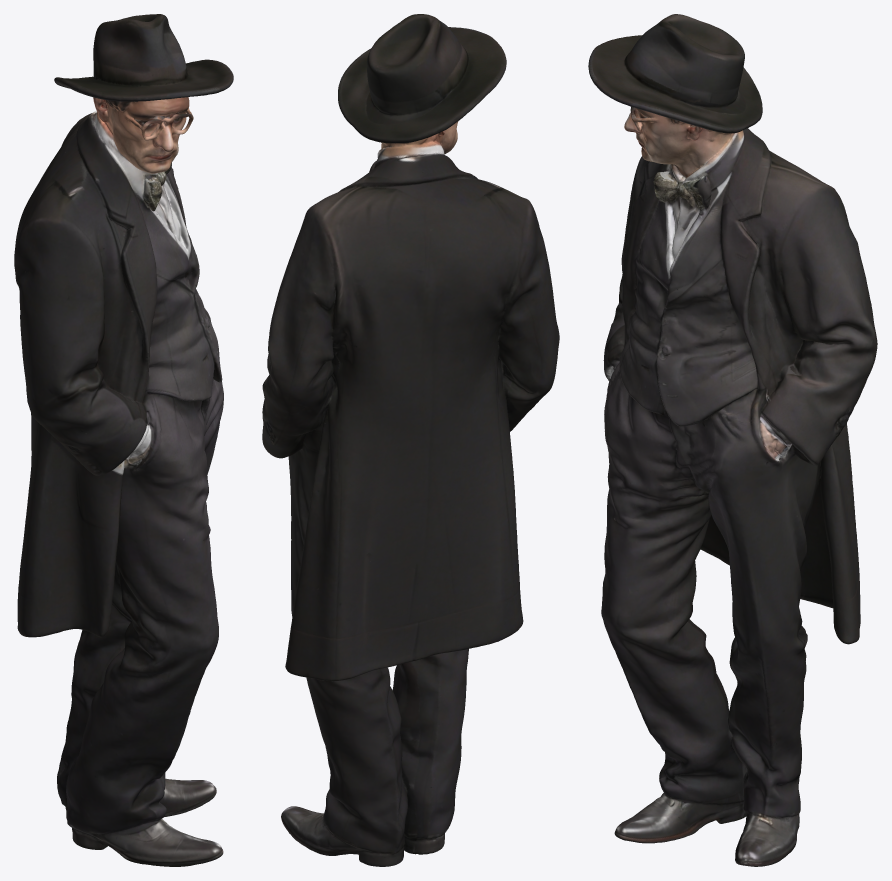
The model's file is castelao.glb.
3 renders of one model, left to right at view 1: azimuth 30°, elevation 25°; view 2: azimuth 150°, elevation 25°; view 3: azimuth 270°, elevation 25°, orthographic. The views are drawn at different scales.
Visible parts, largest first — view 1: Object_6, Object_4, Object_5, Object_7; view 2: Object_5, Object_7, Object_4, Object_6; view 3: Object_5, Object_6, Object_4, Object_7.
Boxes of the visible parts, x1,y1,x2,y2 form: Object_6: [15, 16, 233, 866]; Object_4: [14, 14, 223, 849]; Object_5: [14, 14, 233, 866]; Object_7: [17, 16, 223, 848]; Object_5: [262, 19, 548, 866]; Object_7: [262, 27, 533, 866]; Object_4: [263, 14, 558, 854]; Object_6: [303, 19, 559, 865]; Object_5: [603, 30, 877, 866]; Object_6: [588, 14, 821, 860]; Object_4: [604, 14, 871, 838]; Object_7: [684, 16, 877, 866].
Size of the model in its own units: 0.5549 by 1.9 by 0.62.
1 material, 1 textured.
